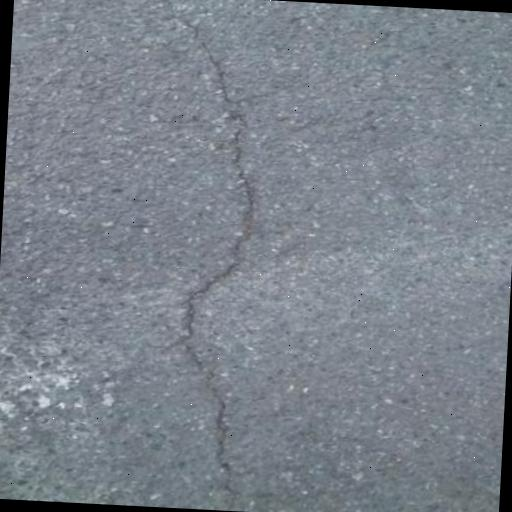spalling: (153, 7, 270, 503)
